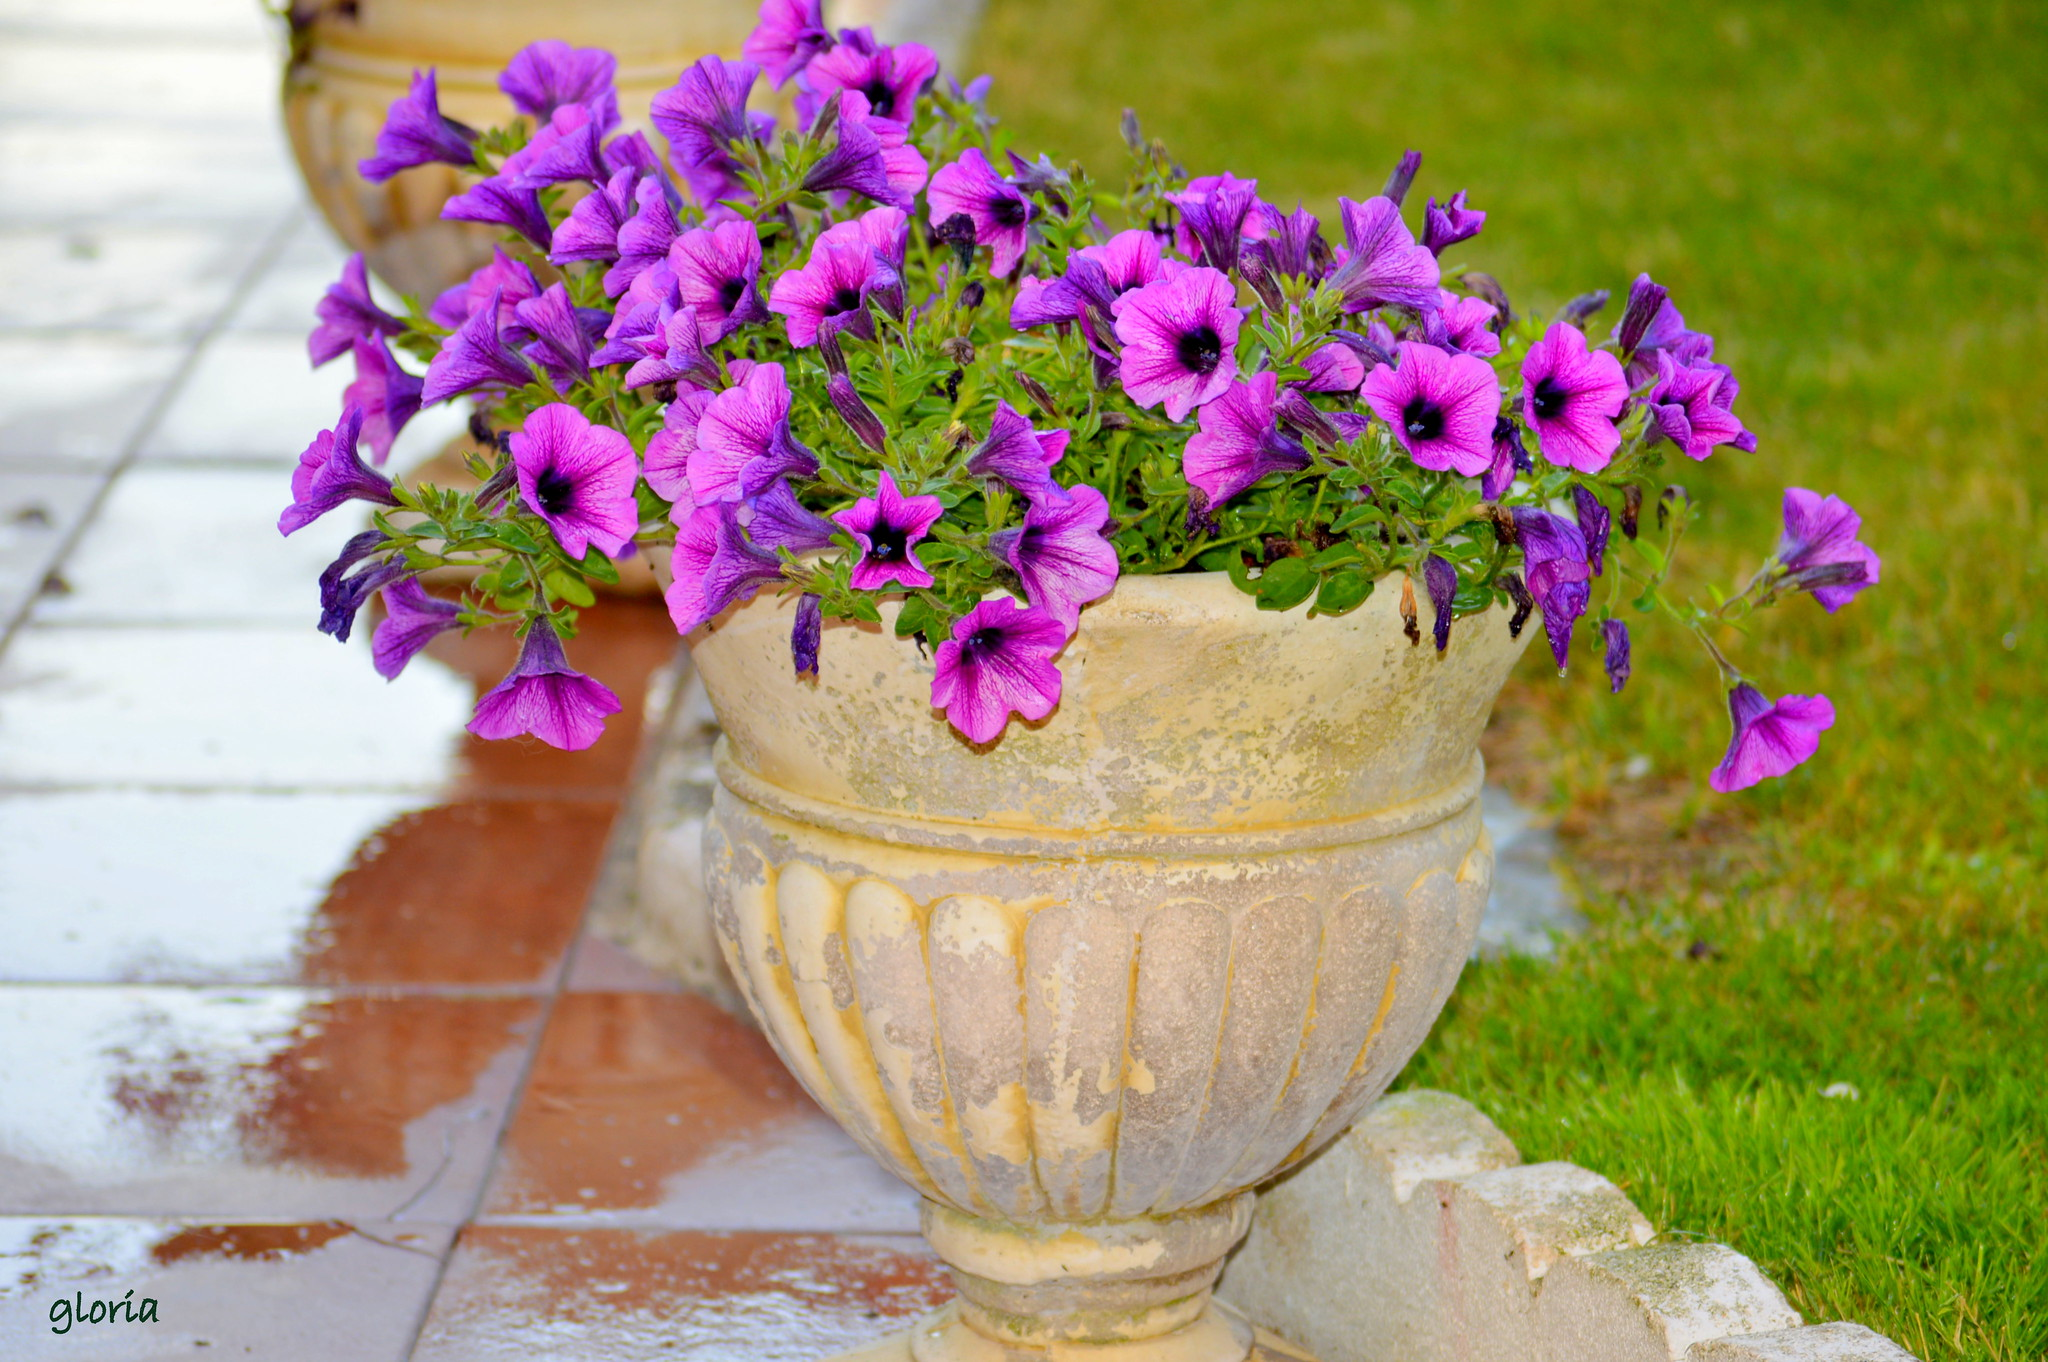potted plant: (469, 38, 1677, 1362)
